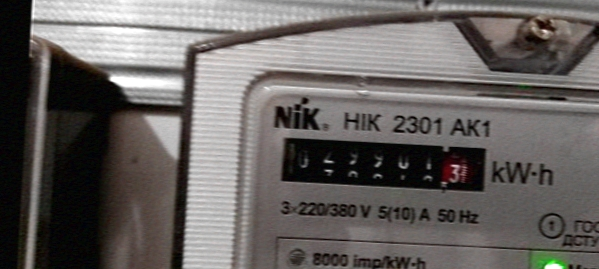0: (396, 145, 412, 171), (295, 147, 312, 169)
1: (421, 148, 435, 172)
2: (320, 145, 337, 165)
3: (448, 160, 462, 183)
9: (371, 146, 386, 169), (346, 145, 359, 167)
screen: (268, 125, 498, 202)
